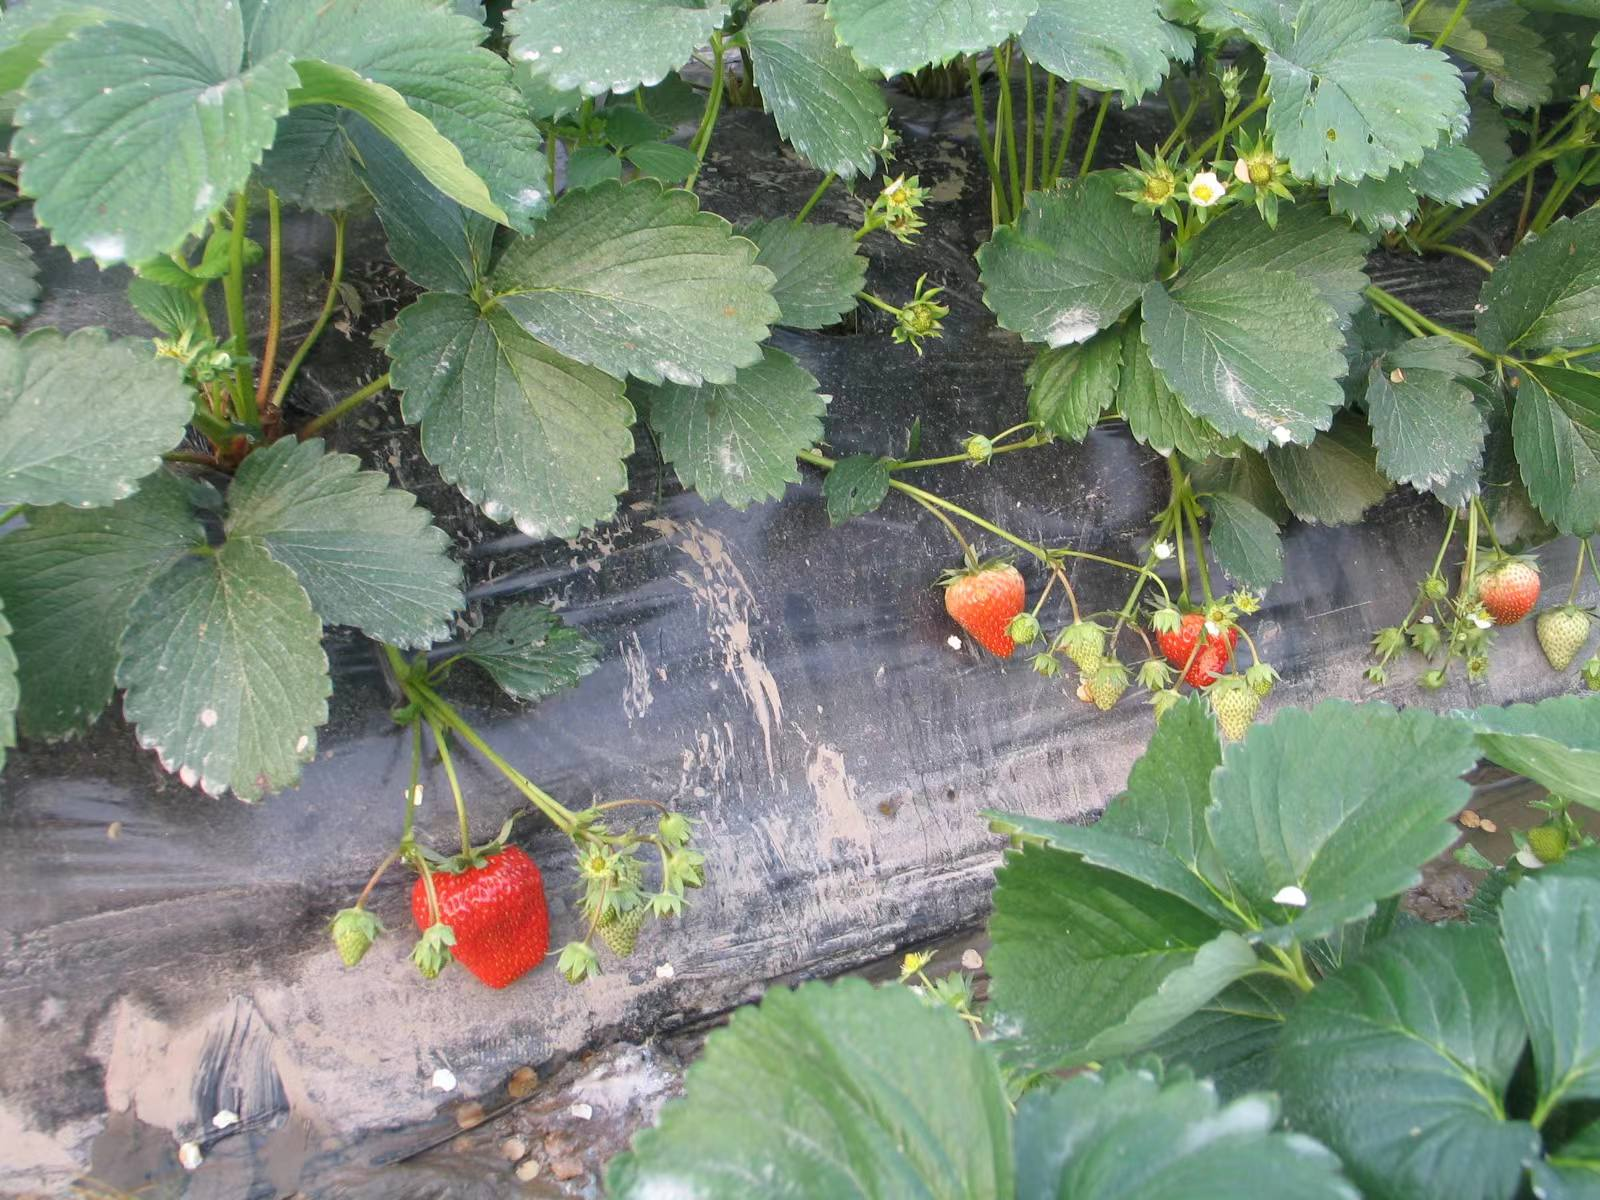StrawberryIrremovable: (935, 552, 1039, 658), (1477, 545, 1547, 632), (581, 890, 653, 962), (1536, 600, 1592, 671), (325, 906, 387, 968), (1208, 672, 1259, 746), (1052, 613, 1110, 676), (1082, 661, 1140, 720)
StrawberryOther: (1151, 605, 1251, 691)
StrawberryRemovable: (408, 832, 564, 988), (1154, 608, 1249, 692)
StrawberryWedge: (401, 829, 564, 989)
